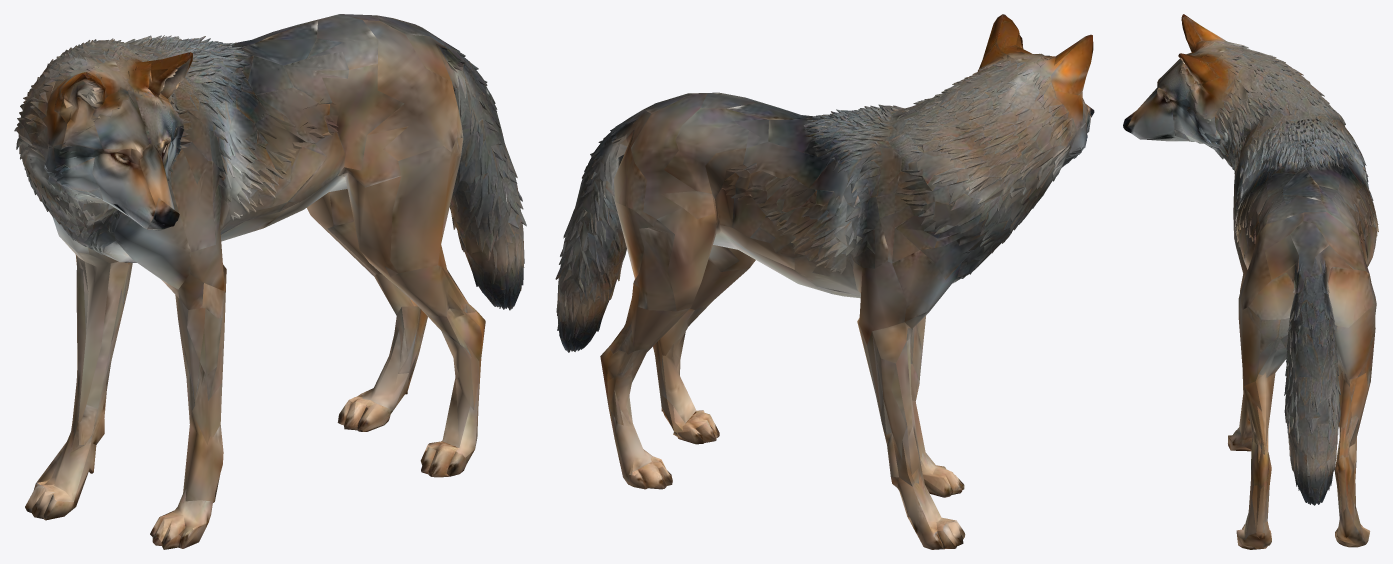
Rendered from wolf-low.glb.
3 views of the same model, side by side, from view 1: azimuth 30°, elevation 25°; view 2: azimuth 150°, elevation 25°; view 3: azimuth 270°, elevation 25° (orthographic). The views are drawn at different scales.
Bounding box in the file's own units: 1.9 × 1.78 × 1.07.
Materials: 1 (1 with a texture image).
